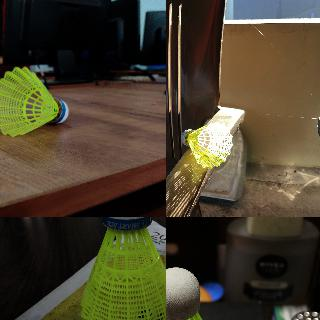shuttlecock: (81, 217, 165, 319), (0, 66, 69, 136), (166, 268, 227, 319), (180, 122, 232, 168)
